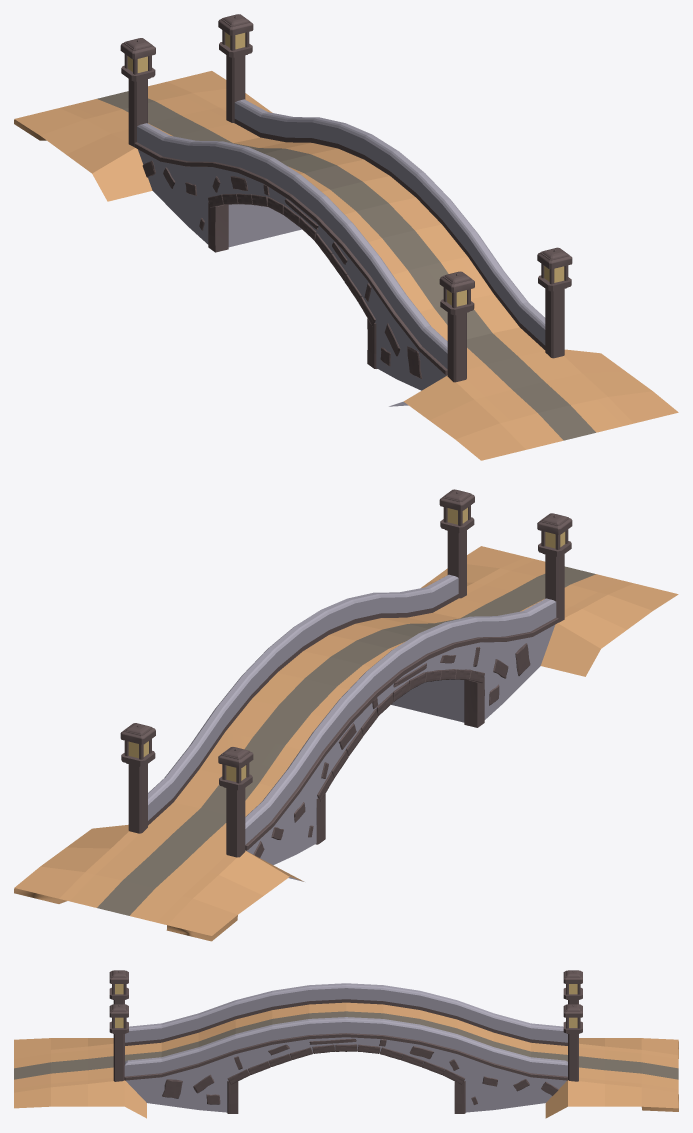
The model's file is PontePedraCoresCorrect.fbx.
3 renders of one model, top to bottom at view 1: azimuth 30°, elevation 25°; view 2: azimuth 150°, elevation 25°; view 3: azimuth 270°, elevation 25°, orthographic. The views are drawn at different scales.
Visible parts, largest first — view 1: Cube; view 2: Cube; view 3: Cube.
Part boxes in pixels (x1,y1,x2,y2): Cube: (14, 14, 678, 460); Cube: (14, 489, 678, 941); Cube: (14, 970, 678, 1118).
Bounding box in the file's own units: 2200 × 1597 × 9004.
